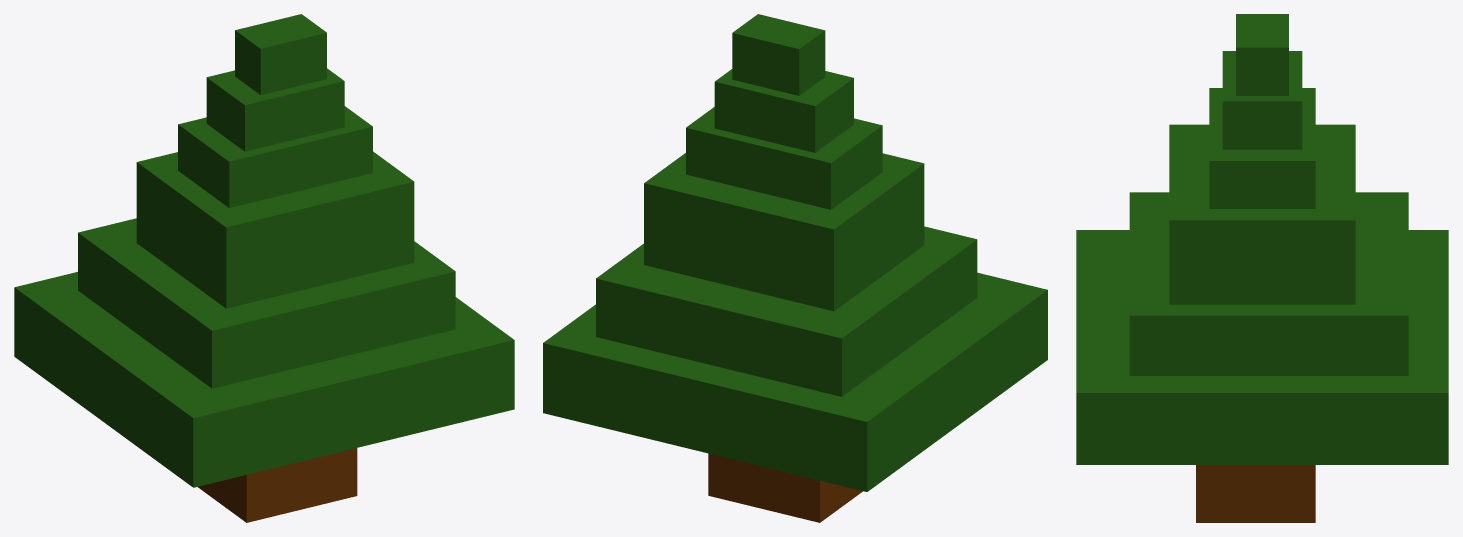
Rendered from Normal tree.obj.
The picture shows the model from 3 angles, left to right: view 1: azimuth 30°, elevation 25°; view 2: azimuth 150°, elevation 25°; view 3: azimuth 270°, elevation 25°; orthographic projection. The views are drawn at different scales.
Size of the model in its own units: 29 by 39 by 28.
Materials: 1 (1 with a texture image).
